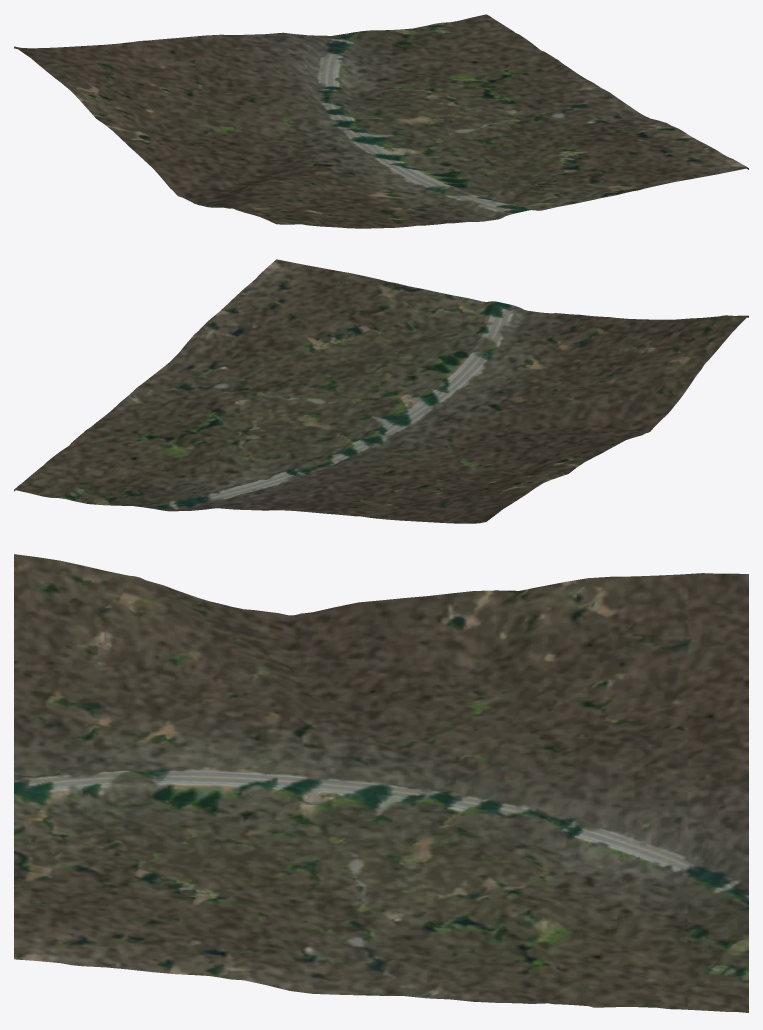
3 renders of one model, top to bottom at view 1: azimuth 30°, elevation 25°; view 2: azimuth 150°, elevation 25°; view 3: azimuth 270°, elevation 25°, orthographic. The views are drawn at different scales.
Bounding box in the file's own units: 250 × 50.23 × 241.
Materials: 1 (1 with a texture image).
